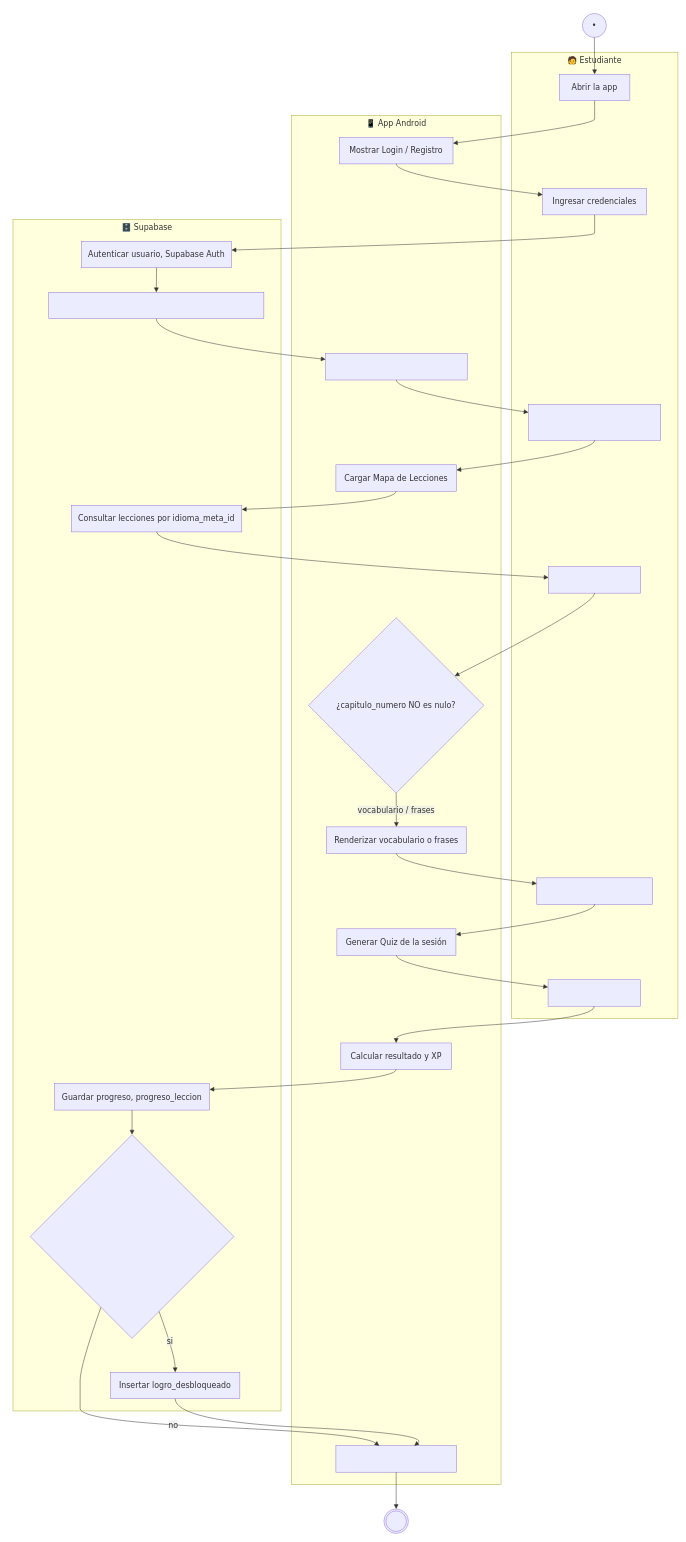
This 686x1542 diagram has some shape labels left out. Here are the shapes that lost their labels. From the top down, the centre of each, then its label:
the point at 156,305: Crear perfil si es nuevo, trigger crear_usuario_nuevo
the point at 396,366: Mostrar Inicio con idioma activo
the point at 594,422: Elegir idioma de estudio opcional, Miskito por defecto
the point at 594,579: Elegir una lección
the point at 594,890: Estudiar y autoevaluarse
the point at 594,992: Responder el Quiz
the point at 132,1236: ¿Se cumple algún criterio de logro?
the point at 395,1458: Mostrar resultado y logros
